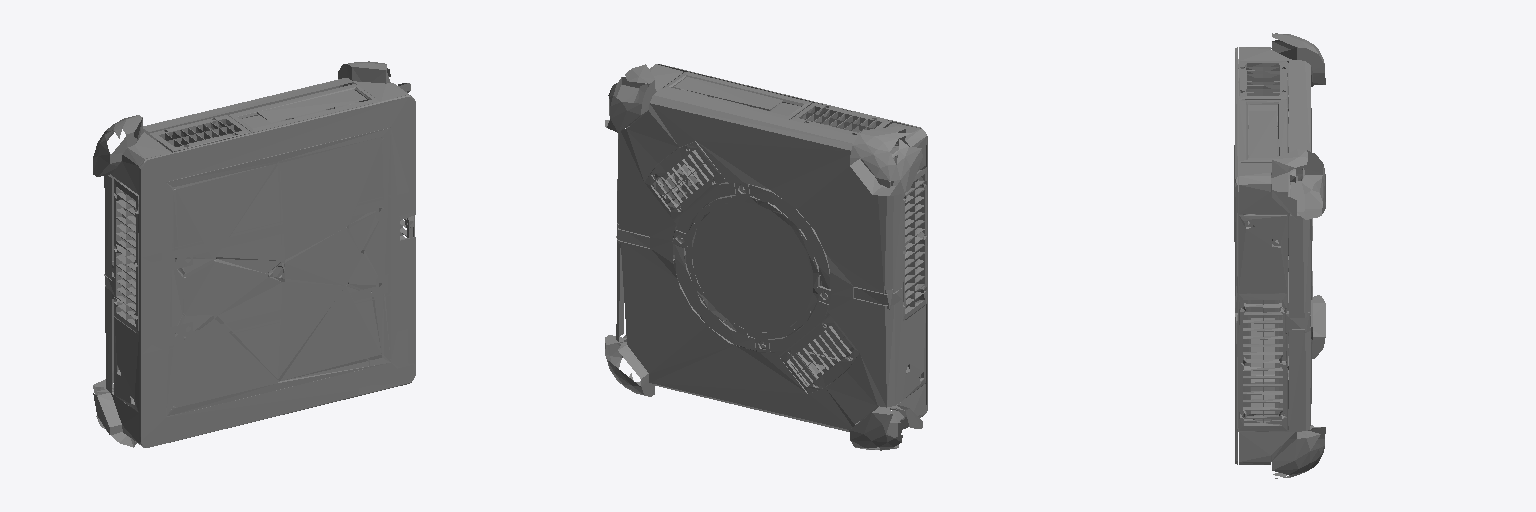
The model's file is pmc.obj.
The picture shows the model from 3 angles: view 1: azimuth 30°, elevation 25°; view 2: azimuth 150°, elevation 25°; view 3: azimuth 270°, elevation 25°; orthographic projection.
Parts seen in each view (by area): view 1: Astrobee.001; view 2: Astrobee.001; view 3: Astrobee.001.
Part boxes in pixels (x1,y1,x2,y2): Astrobee.001: (93,61,415,447); Astrobee.001: (605,64,927,450); Astrobee.001: (1234,33,1325,478).
Size of the model in its own units: 0.3175 by 0.3183 by 0.0838.